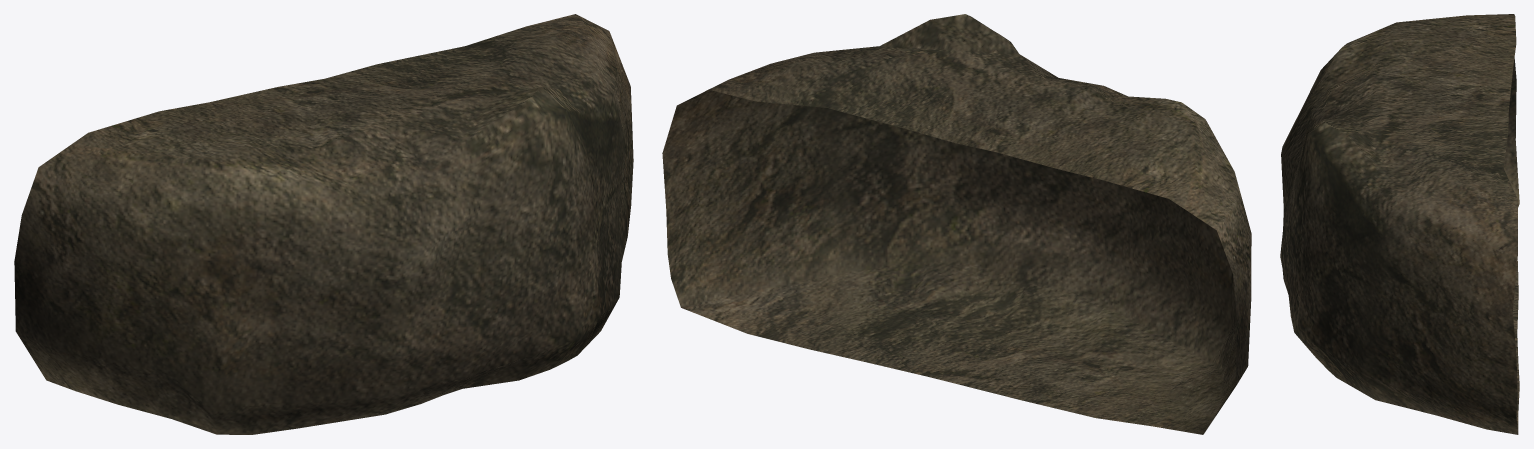
File: LCRG_RockClif_03.fbx
The picture shows the model from 3 angles, left to right: view 1: azimuth 30°, elevation 25°; view 2: azimuth 150°, elevation 25°; view 3: azimuth 270°, elevation 25°; orthographic projection. The views are drawn at different scales.
Parts seen in each view (by area): view 1: LCRG_RockClif_03; view 2: LCRG_RockClif_03; view 3: LCRG_RockClif_03.
Part boxes in pixels (box(x1,y1,x2,y2)): LCRG_RockClif_03: box(14, 14, 633, 434); LCRG_RockClif_03: box(662, 14, 1251, 434); LCRG_RockClif_03: box(1280, 14, 1519, 434).
Bounding box in the file's own units: 11.52 × 5.2 × 4.59.
